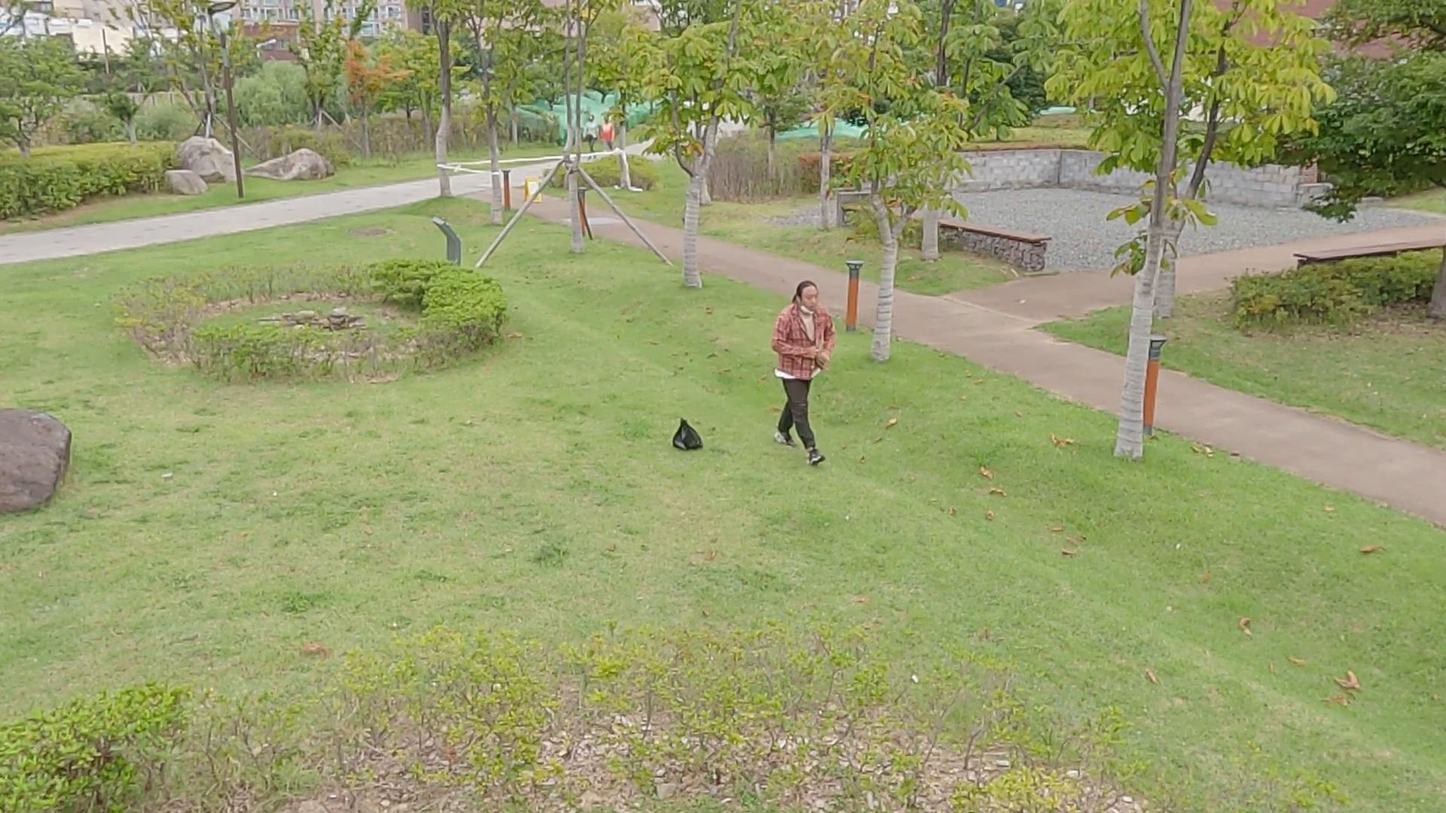person: (762, 273, 833, 473)
trash: (669, 412, 705, 467)
